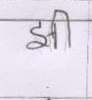i_matra: (55, 9, 75, 48)
